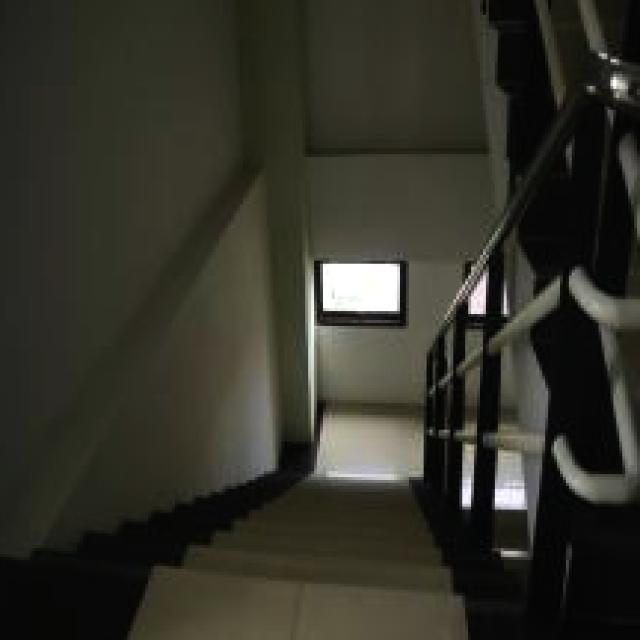downstair: (197, 451, 446, 640)
